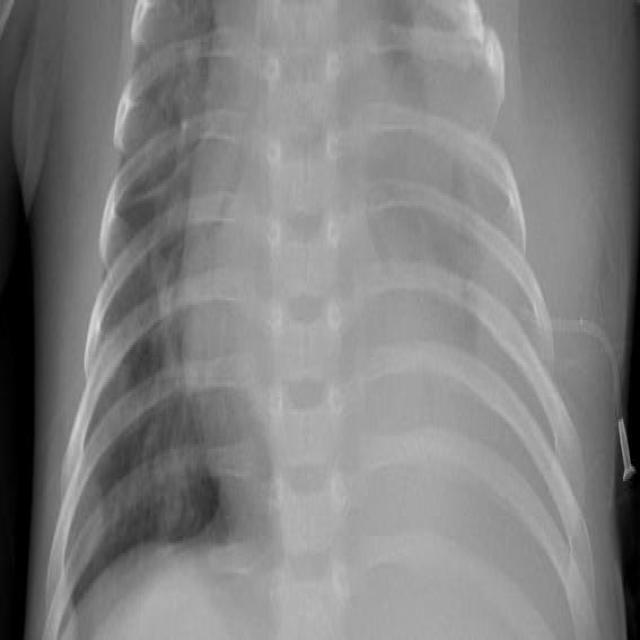low-pneumonia: (390, 32, 516, 373), (127, 20, 198, 236), (130, 357, 204, 540)
